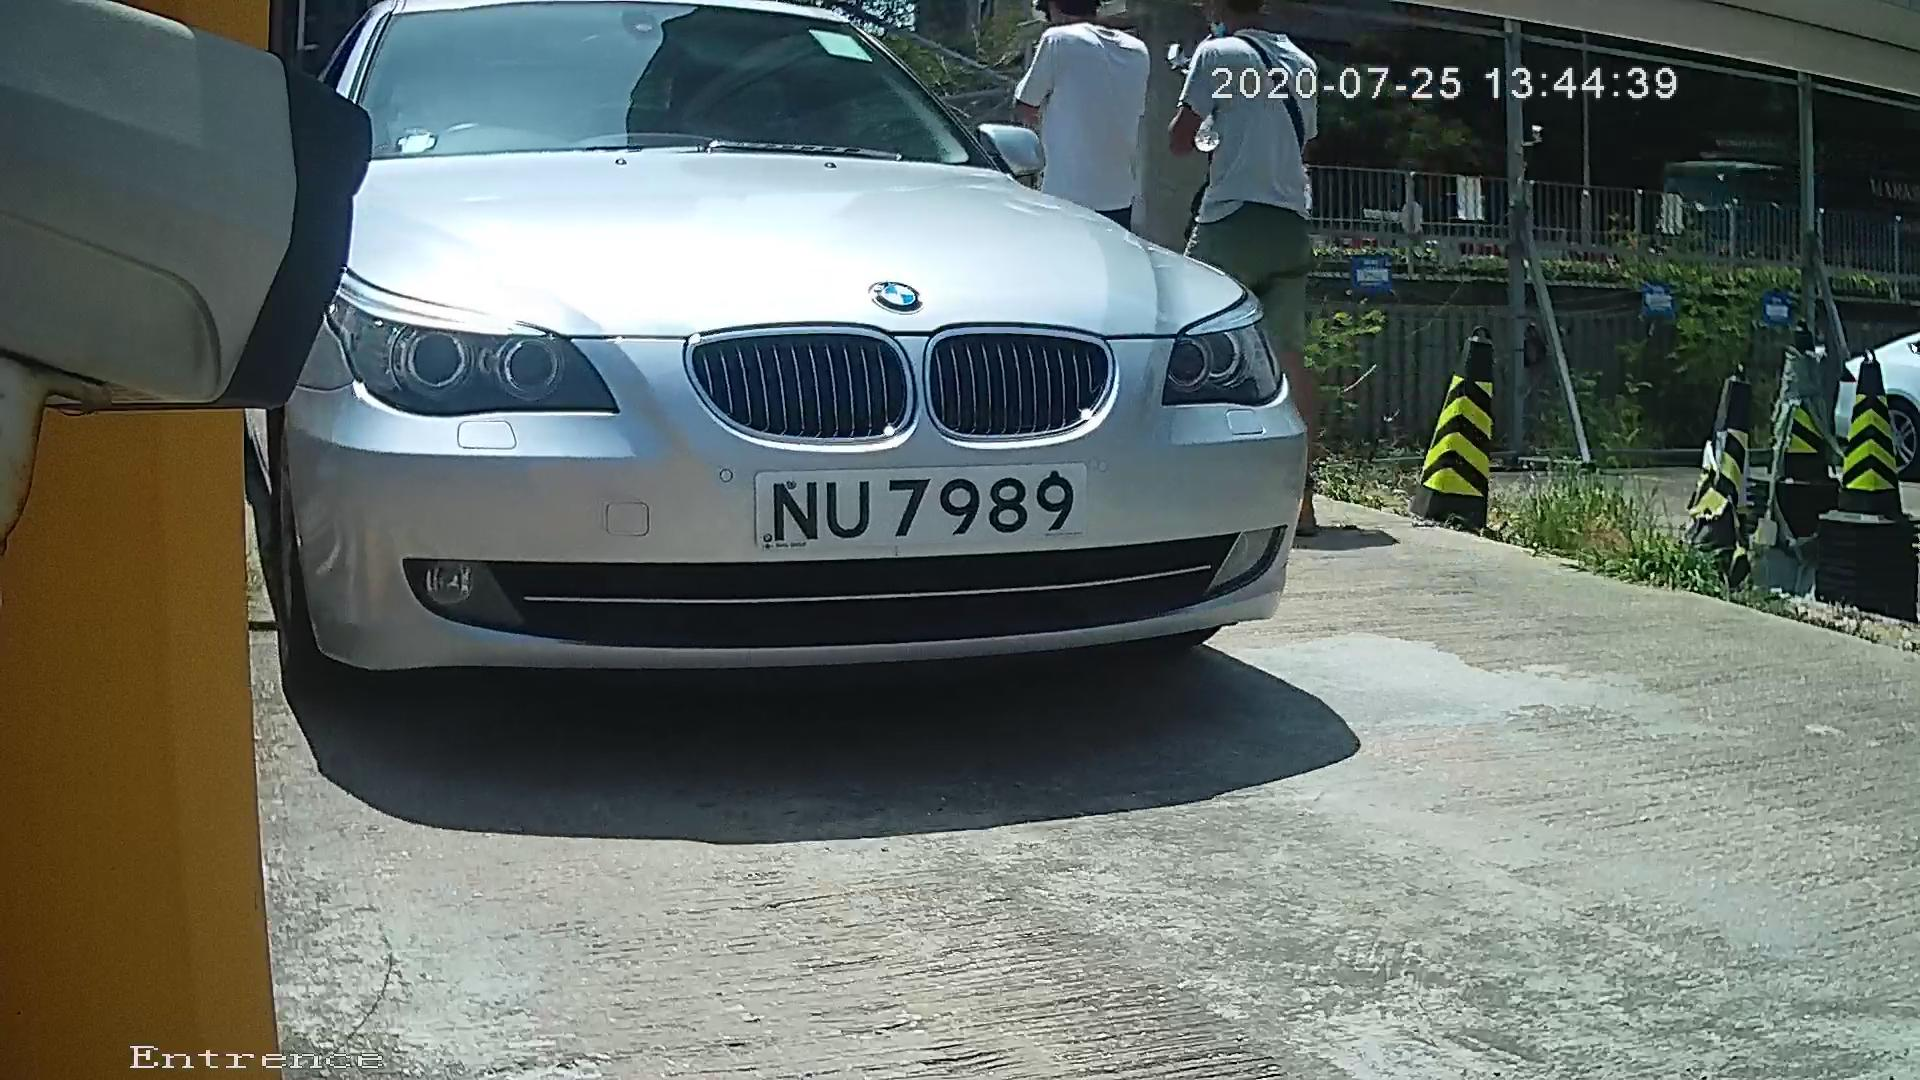Car: (69, 1, 1406, 772)
License Plate: (721, 454, 1132, 569)
